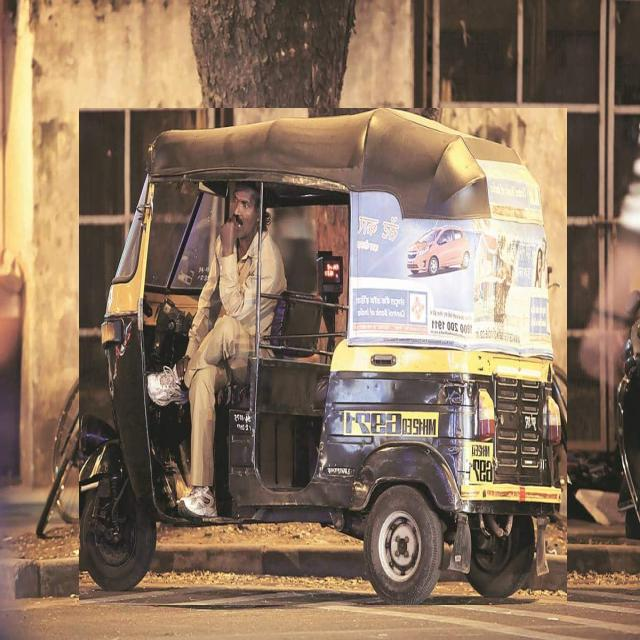autorickshaw: (80, 108, 567, 605)
